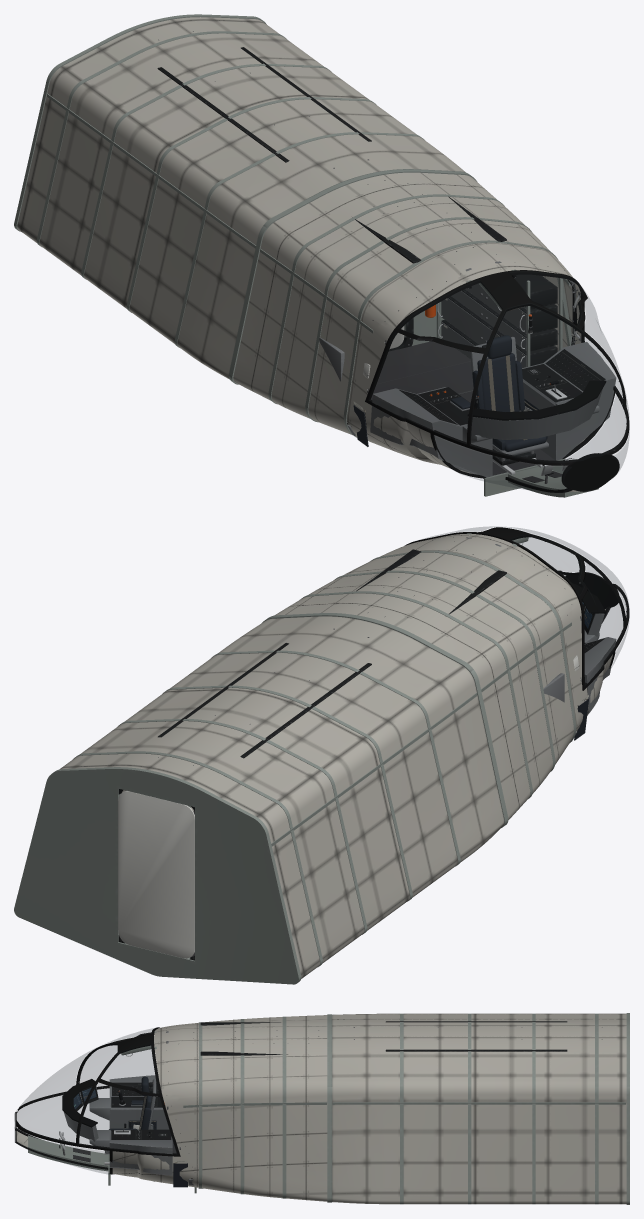
Rendered from chaika_cockpit.fbx.
The picture shows the model from 3 angles, top to bottom: view 1: azimuth 30°, elevation 25°; view 2: azimuth 150°, elevation 25°; view 3: azimuth 270°, elevation 25°; orthographic projection. The views are drawn at different scales.
Parts seen in each view (by area): view 1: ck_liner_airlock, ck_liner_cockpit, ck_structure_cockpit, ck_rear_cockpit, ck_structure_airlock, ck_canopy_trim, ck_console_R, ck_seat, ck_panel, ck_faceplates, ck_console_L, ck_bulkhead (+3 smaller); view 2: ck_liner_airlock, ck_structure_airlock, ck_liner_cockpit, ck_hatch_proxy, ck_structure_cockpit, ck_glass, ck_canopy_trim, ck_bulkhead, ck_airlock_equip, ck_console_R, ck_rear_cockpit, ck_panel; view 3: ck_liner_airlock, ck_liner_cockpit, ck_glass, ck_structure_airlock, ck_structure_cockpit, ck_canopy_trim, ck_console_R, ck_console_L, ck_faceplates, ck_pedals, ck_panel, ck_bulkhead (+4 smaller).
Boxes of the visible parts, x1=… form: ck_liner_airlock: x1=17, y1=17, x2=465, y2=379; ck_liner_cockpit: x1=233, y1=172, x2=587, y2=491; ck_structure_cockpit: x1=260, y1=194, x2=619, y2=496; ck_rear_cockpit: x1=319, y1=196, x2=562, y2=381; ck_structure_airlock: x1=14, y1=14, x2=424, y2=347; ck_canopy_trim: x1=365, y1=270, x2=629, y2=492; ck_console_R: x1=370, y1=387, x2=492, y2=477; ck_seat: x1=470, y1=335, x2=548, y2=474; ck_panel: x1=467, y1=380, x2=606, y2=439; ck_faceplates: x1=399, y1=349, x2=605, y2=425; ck_console_L: x1=521, y1=342, x2=616, y2=460; ck_bulkhead: x1=228, y1=169, x2=477, y2=384; ck_liner_airlock: x1=60, y1=616, x2=504, y2=978; ck_structure_airlock: x1=14, y1=650, x2=477, y2=984; ck_liner_cockpit: x1=274, y1=534, x2=612, y2=819; ck_hatch_proxy: x1=118, y1=791, x2=194, y2=958; ck_structure_cockpit: x1=300, y1=550, x2=619, y2=798; ck_glass: x1=424, y1=526, x2=629, y2=667; ck_canopy_trim: x1=404, y1=527, x2=629, y2=690; ck_bulkhead: x1=262, y1=613, x2=508, y2=827; ck_airlock_equip: x1=158, y1=628, x2=371, y2=765; ck_console_R: x1=584, y1=630, x2=616, y2=713; ck_rear_cockpit: x1=356, y1=549, x2=564, y2=702; ck_panel: x1=572, y1=583, x2=606, y2=636; ck_liner_airlock: x1=332, y1=1013, x2=626, y2=1204; ck_liner_cockpit: x1=16, y1=1015, x2=327, y2=1201; ck_glass: x1=14, y1=1028, x2=155, y2=1174; ck_structure_airlock: x1=332, y1=1013, x2=629, y2=1204; ck_structure_cockpit: x1=15, y1=1016, x2=326, y2=1198; ck_canopy_trim: x1=15, y1=1027, x2=180, y2=1174; ck_console_R: x1=89, y1=1075, x2=172, y2=1129; ck_console_L: x1=89, y1=1130, x2=172, y2=1175; ck_faceplates: x1=76, y1=1082, x2=171, y2=1139; ck_pedals: x1=28, y1=1131, x2=108, y2=1171; ck_panel: x1=62, y1=1079, x2=98, y2=1141; ck_bulkhead: x1=327, y1=1014, x2=332, y2=1202.
Bounding box in the file's own units: 3.33 × 2.26 × 8.82.
Materials: 10 (2 with a texture image).
